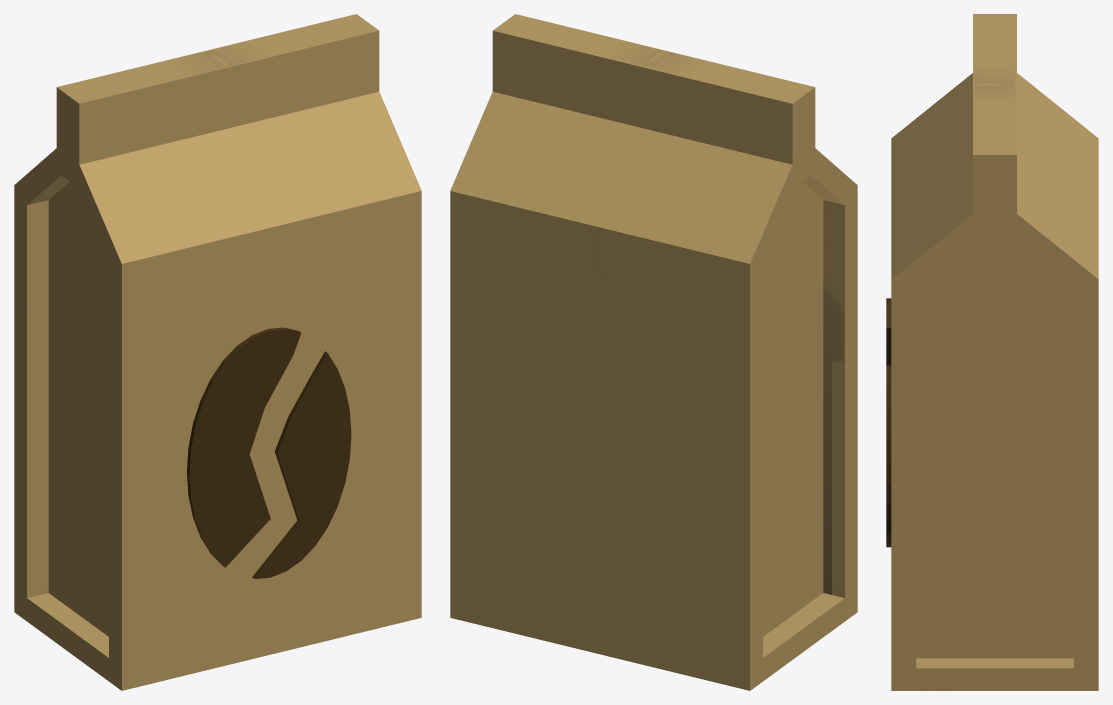
Rendered from goods_coffee.gltf.
3 renders of one model, left to right at view 1: azimuth 30°, elevation 25°; view 2: azimuth 150°, elevation 25°; view 3: azimuth 270°, elevation 25°, orthographic. The views are drawn at different scales.
Parts seen in each view (by area): view 1: Object_2, Object_3; view 2: Object_2; view 3: Object_2, Object_3.
Boxes of the visible parts, x1,y1,x2,y2 form: Object_2: [14, 14, 421, 690]; Object_3: [187, 327, 351, 578]; Object_2: [450, 14, 857, 690]; Object_2: [891, 14, 1098, 690]; Object_3: [886, 298, 891, 547].
Bounding box in the file's own units: 2 × 3.54 × 1.27.
2 materials, 2 textured.
